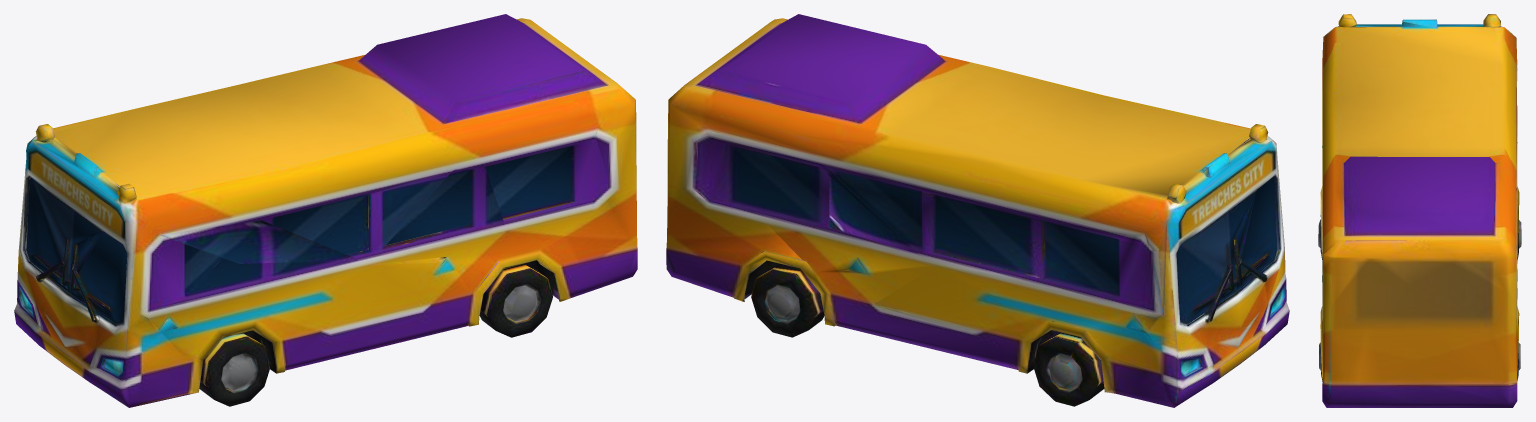
The model's file is bus_trench.glb.
The picture shows the model from 3 angles, left to right: view 1: azimuth 30°, elevation 25°; view 2: azimuth 150°, elevation 25°; view 3: azimuth 270°, elevation 25°; orthographic projection. The views are drawn at different scales.
Visible parts, largest first — view 1: Mesh1.0; view 2: Mesh1.0; view 3: Mesh1.0.
Boxes of the visible parts, bbox=[...] form: Mesh1.0: bbox=[14, 14, 637, 407]; Mesh1.0: bbox=[666, 14, 1289, 407]; Mesh1.0: bbox=[1318, 14, 1521, 407].
Bounding box in the file's own units: 1.9 × 0.8134 × 0.7216.
Materials: 1 (1 with a texture image).
